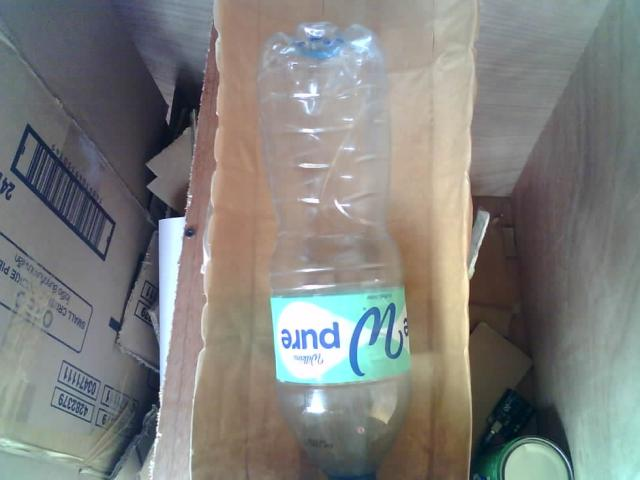large_bottle: (246, 6, 426, 480)
